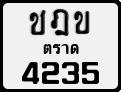letters: (50, 8, 70, 37), (28, 8, 47, 36), (21, 60, 40, 86), (41, 60, 60, 85), (73, 9, 91, 35), (61, 61, 80, 85), (81, 61, 100, 85)
province: (42, 41, 81, 57)
